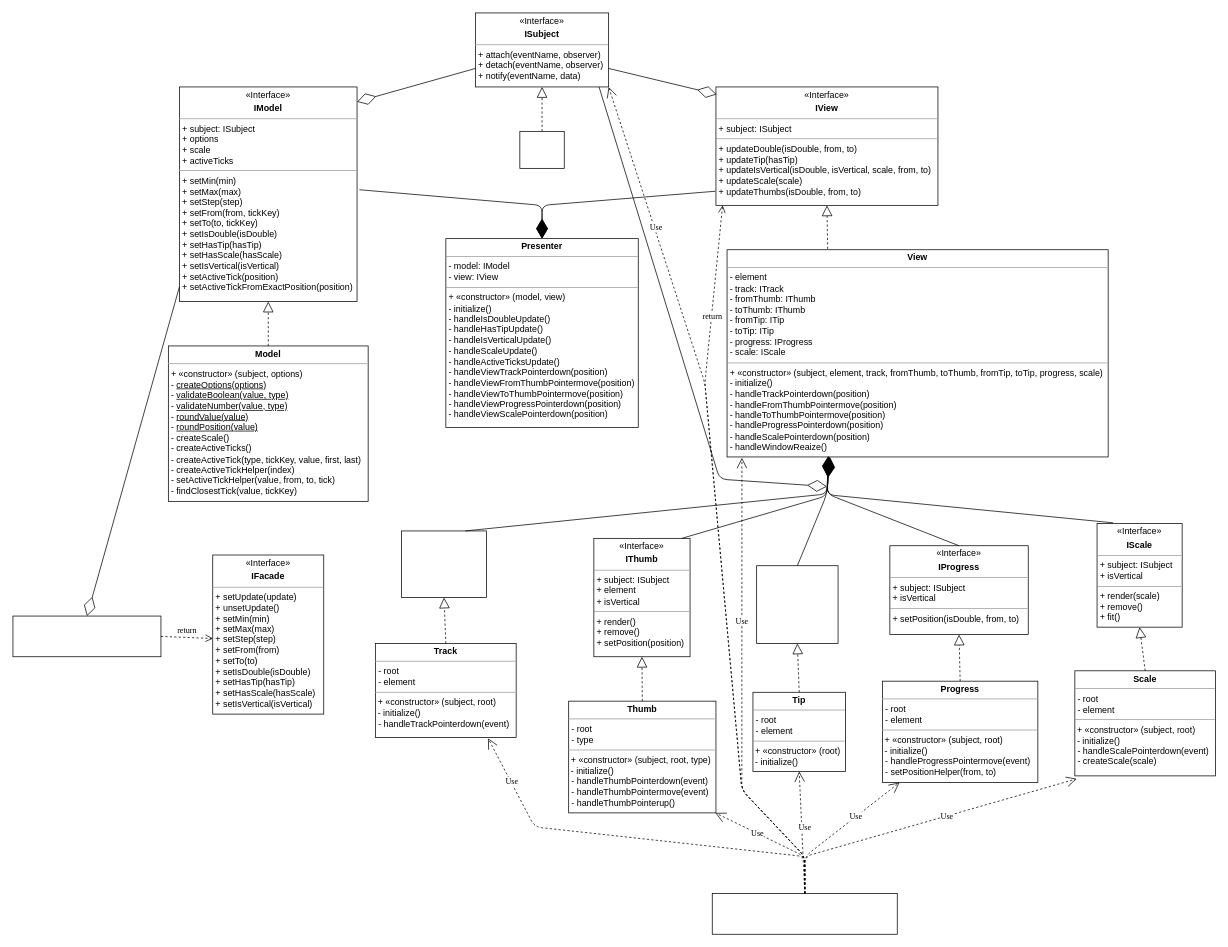
Image size: 1228x947. Some labels were removed from this diagram. The box of each missing label's shape, as (x1, y1, x2, y2) in pixels:
FacadeFactory + initialize(model: IModel): IFacade: (12, 615, 161, 657)
Subject - events: (519, 131, 564, 168)
ViewFactory + initialize(subject: ISubject, element): IView: (712, 893, 897, 934)
«Interface» ITip + render() + remove() + setValue(value): (756, 565, 838, 643)
«Interface» ITrack + subject: ISubject + isVertical: (401, 530, 487, 598)
